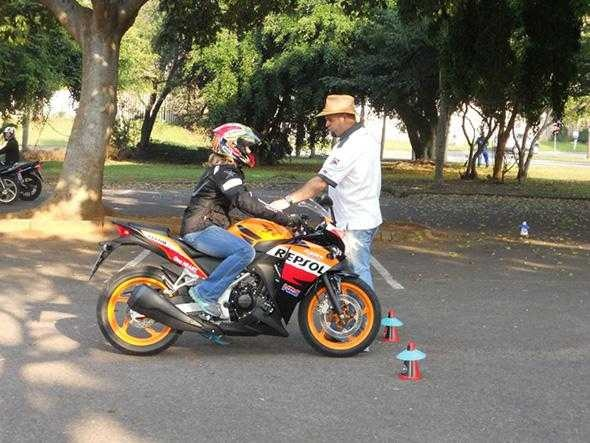motorcycle: (93, 215, 394, 357)
